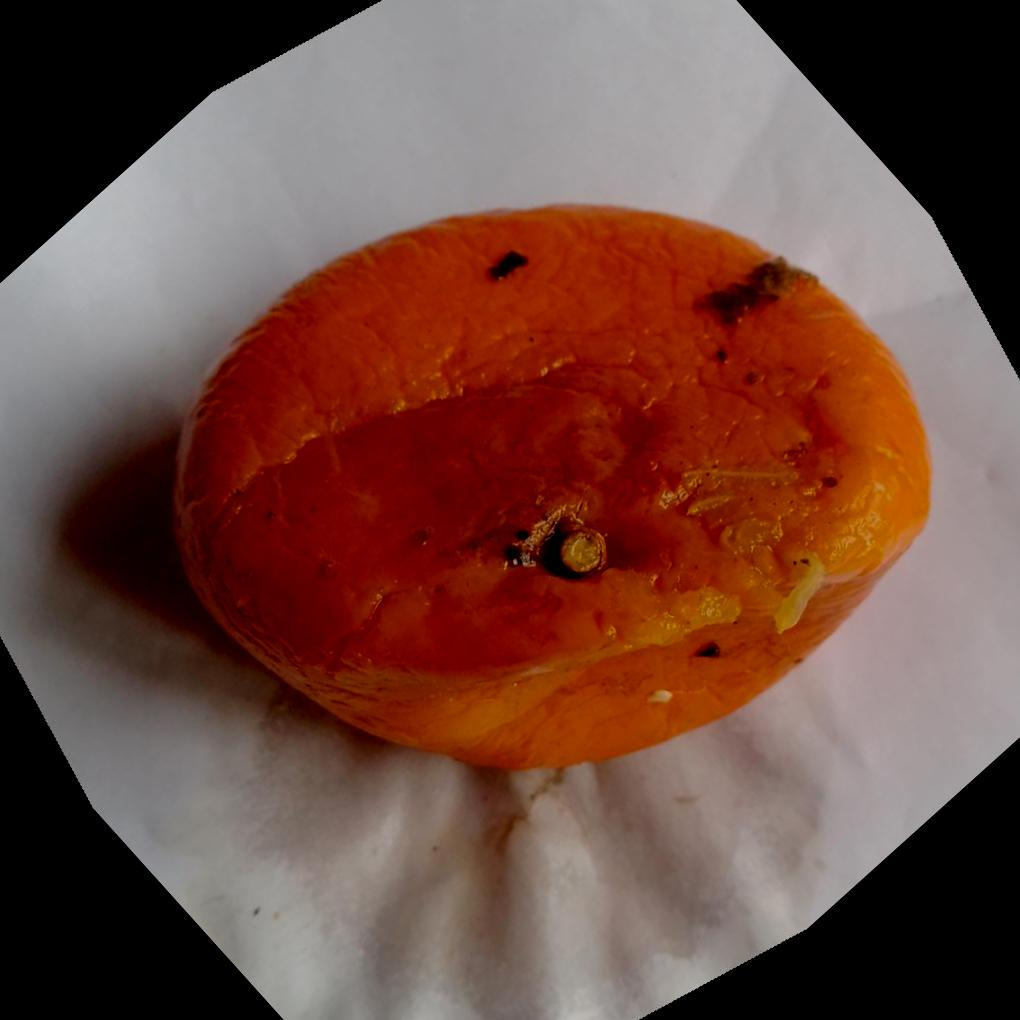FreshOrange: (164, 202, 932, 774)
